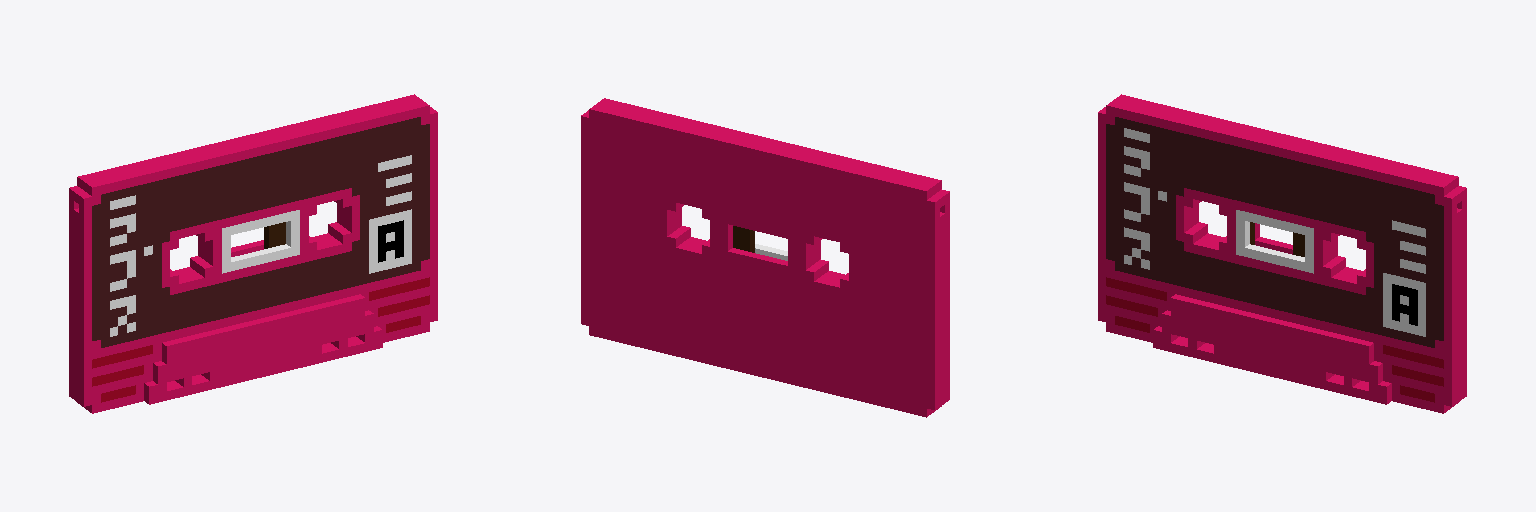
3 renders of one model, left to right at view 1: azimuth 30°, elevation 25°; view 2: azimuth 150°, elevation 25°; view 3: azimuth 330°, elevation 25°, orthographic.
Parts seen in each view (by area): view 1: object 1; view 2: object 1; view 3: object 1.
Boxes of the visible parts, x1=… form: object 1: x1=69, y1=94, x2=437, y2=413; object 1: x1=581, y1=98, x2=949, y2=417; object 1: x1=1098, y1=94, x2=1466, y2=413.
Bounding box in the file's own units: 4.1 × 2.5 × 0.4.
1 materials, 1 textured.